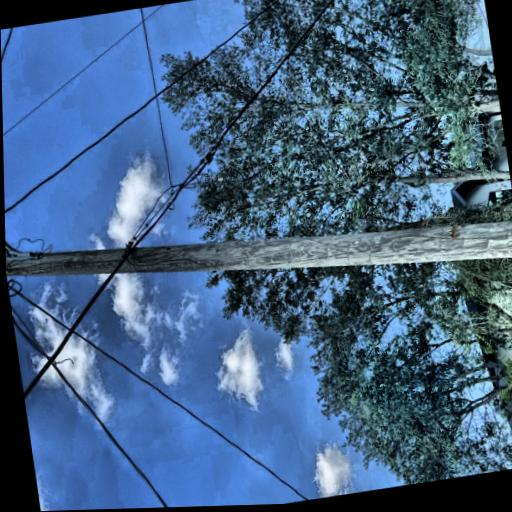pole: (8, 6, 215, 512)
transformer: (46, 19, 116, 120)
